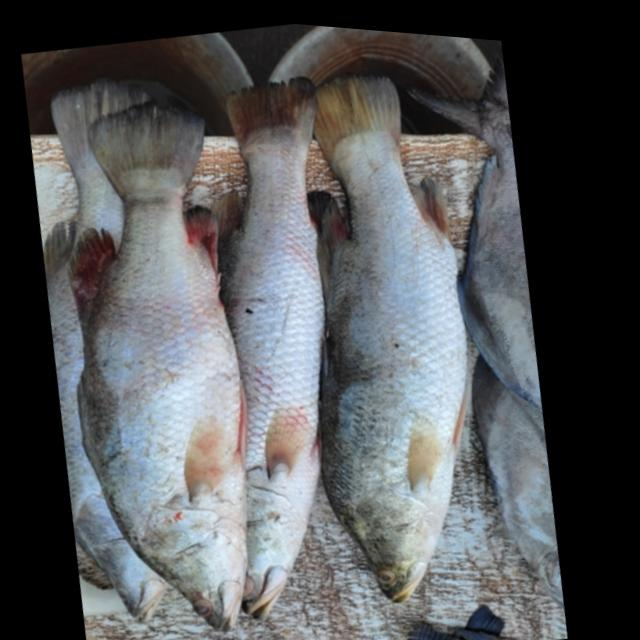Seabass: (233, 51, 541, 624), (1, 82, 312, 640), (145, 71, 414, 631), (0, 63, 252, 640)
